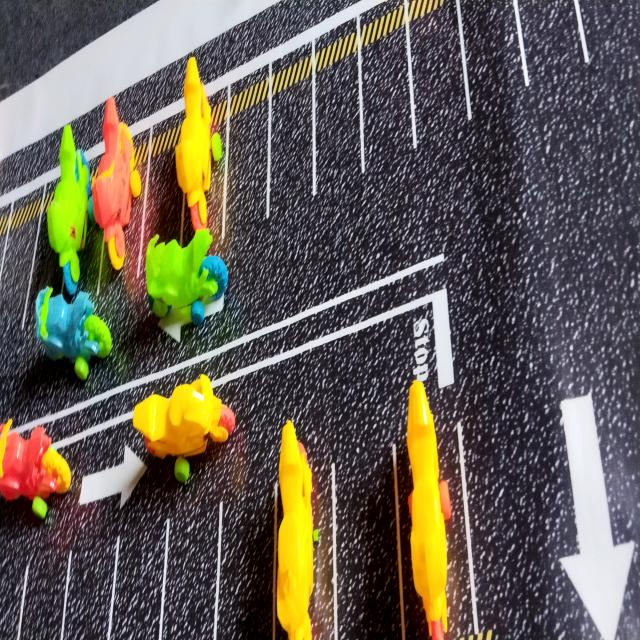bikes: (133, 375, 234, 483), (146, 229, 228, 324), (35, 288, 112, 379), (0, 421, 71, 518)
occupied: (391, 365, 479, 640), (274, 420, 339, 640), (92, 97, 147, 291), (47, 124, 103, 297), (175, 57, 224, 244)
slots: (336, 451, 401, 640), (217, 481, 275, 640), (162, 498, 219, 640), (411, 3, 466, 148), (461, 1, 524, 120), (110, 511, 166, 640), (316, 49, 361, 199), (363, 35, 412, 172), (140, 148, 183, 282), (270, 82, 312, 219), (64, 533, 117, 640), (228, 98, 267, 243), (520, 6, 589, 87), (0, 219, 39, 340), (20, 550, 69, 640)
